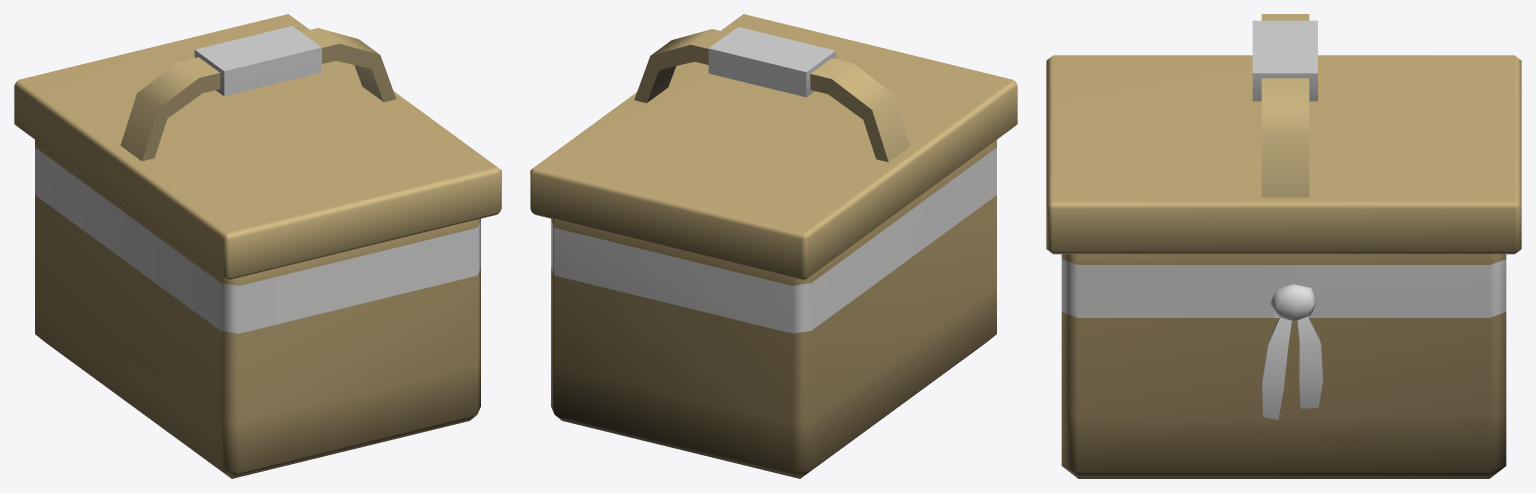
Rendered from human-containers-cooler_v1.glb.
3 views of the same model, side by side, from view 1: azimuth 30°, elevation 25°; view 2: azimuth 150°, elevation 25°; view 3: azimuth 270°, elevation 25° (orthographic). The views are drawn at different scales.
Visible parts, largest first — view 1: Cooler; view 2: Cooler; view 3: Cooler.
Boxes of the visible parts, x1,y1,x2,y2 form: Cooler: [14, 14, 501, 478]; Cooler: [530, 14, 1017, 478]; Cooler: [1046, 14, 1521, 478].
Size of the model in its own units: 0.3809 by 0.4272 by 0.5.
